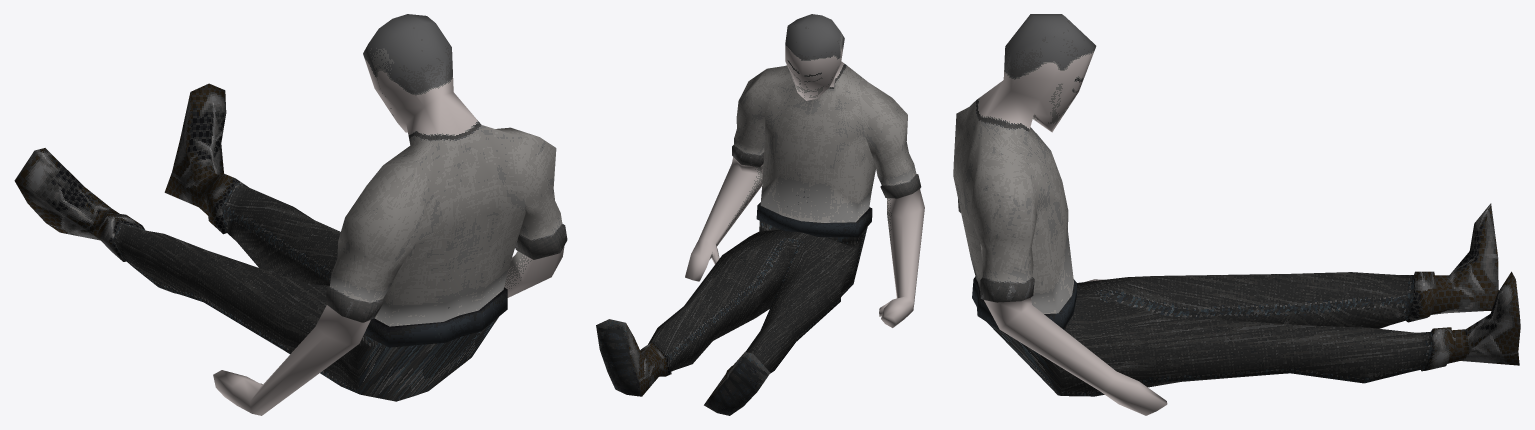
The model's file is fella.glb.
The picture shows the model from 3 angles, left to right: view 1: azimuth 30°, elevation 25°; view 2: azimuth 150°, elevation 25°; view 3: azimuth 270°, elevation 25°; orthographic projection. The views are drawn at different scales.
Parts seen in each view (by area): view 1: fella; view 2: fella; view 3: fella.
Boxes of the visible parts, x1,y1,x2,y2 form: fella: (14, 14, 567, 415); fella: (596, 14, 924, 415); fella: (953, 14, 1520, 415).
Size of the model in its own units: 0.7969 by 0.979 by 1.36.
1 material, 1 textured.
